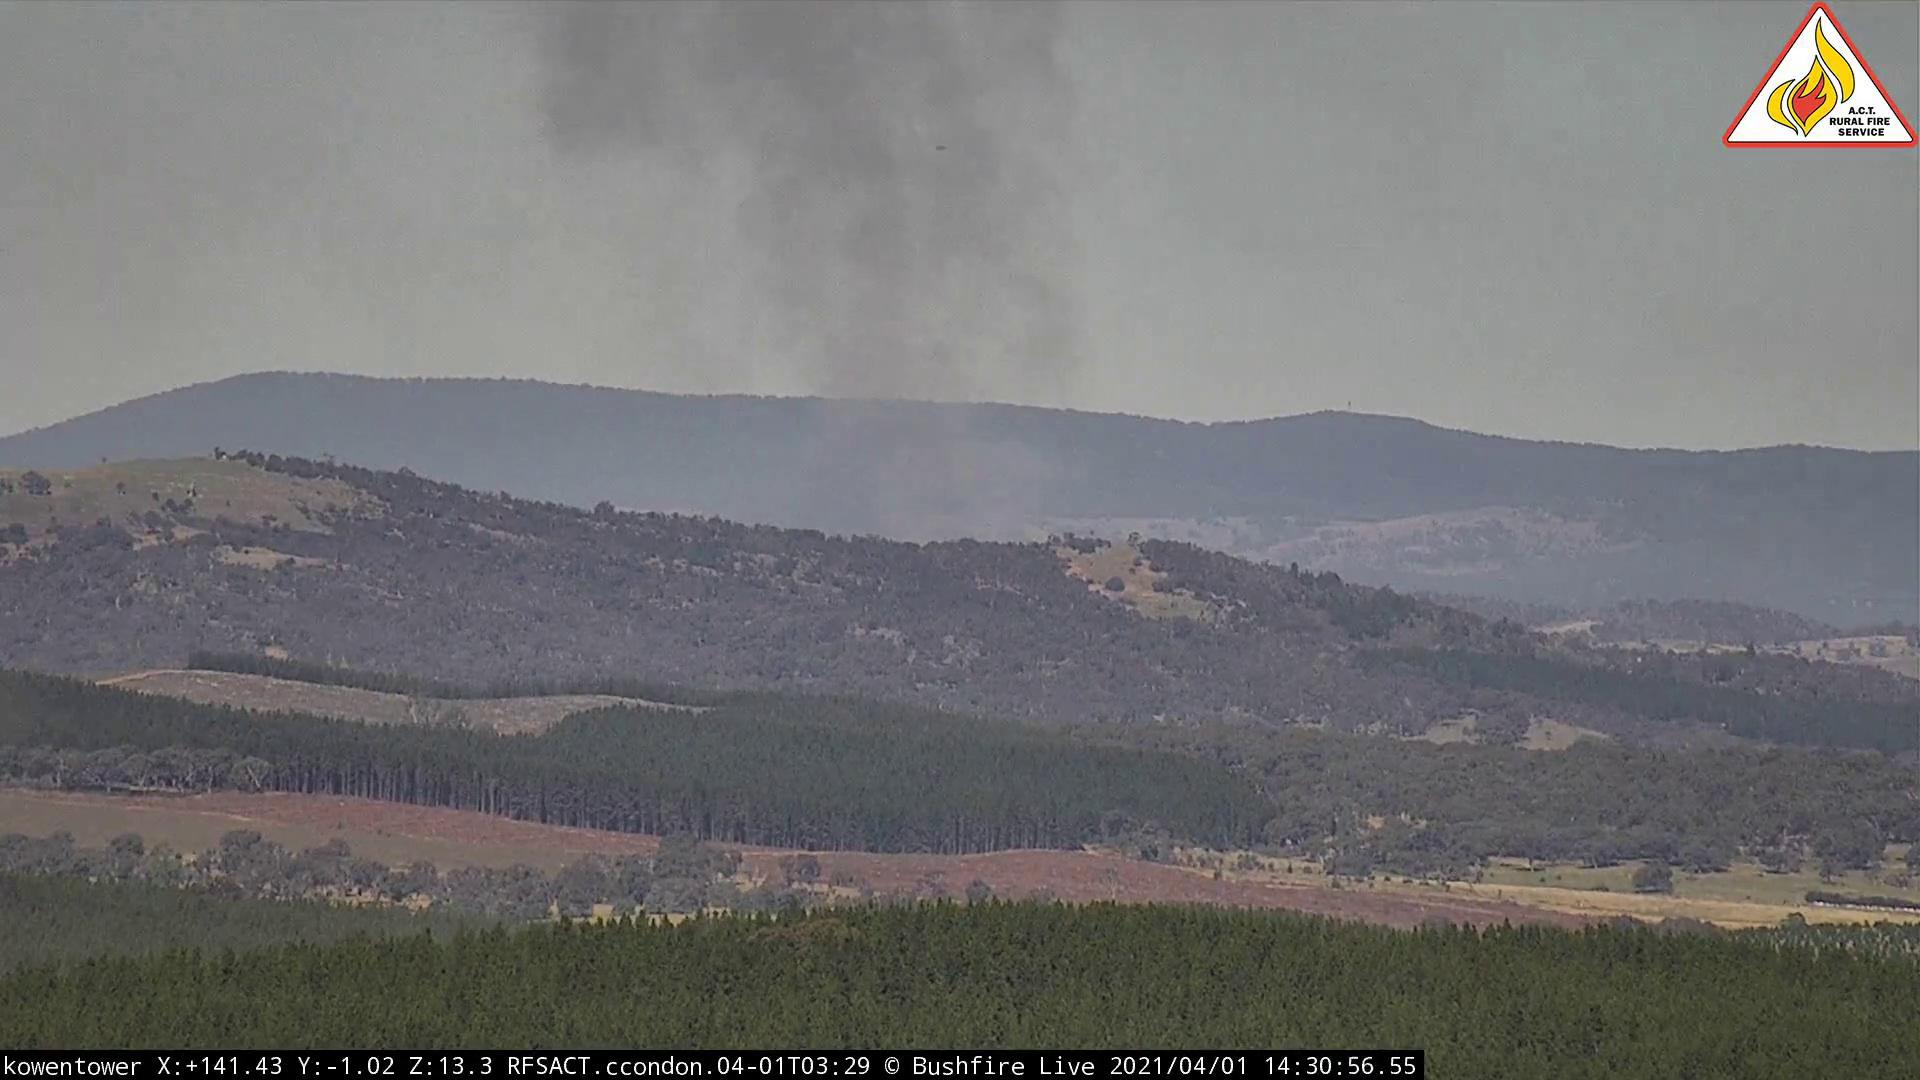instance_salient_object: (473, 3, 1145, 530)
